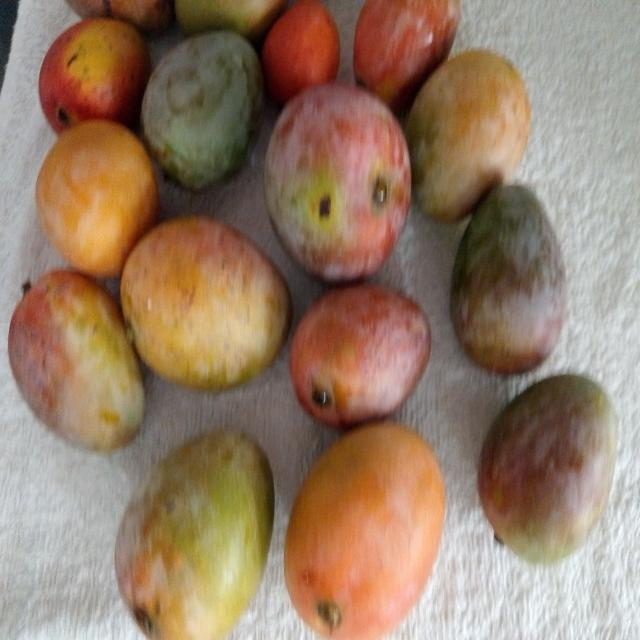mango: (279, 419, 453, 640), (115, 430, 274, 639), (121, 217, 291, 389), (265, 83, 410, 281), (478, 374, 618, 562), (8, 270, 144, 450), (451, 185, 566, 373), (290, 283, 430, 427)
